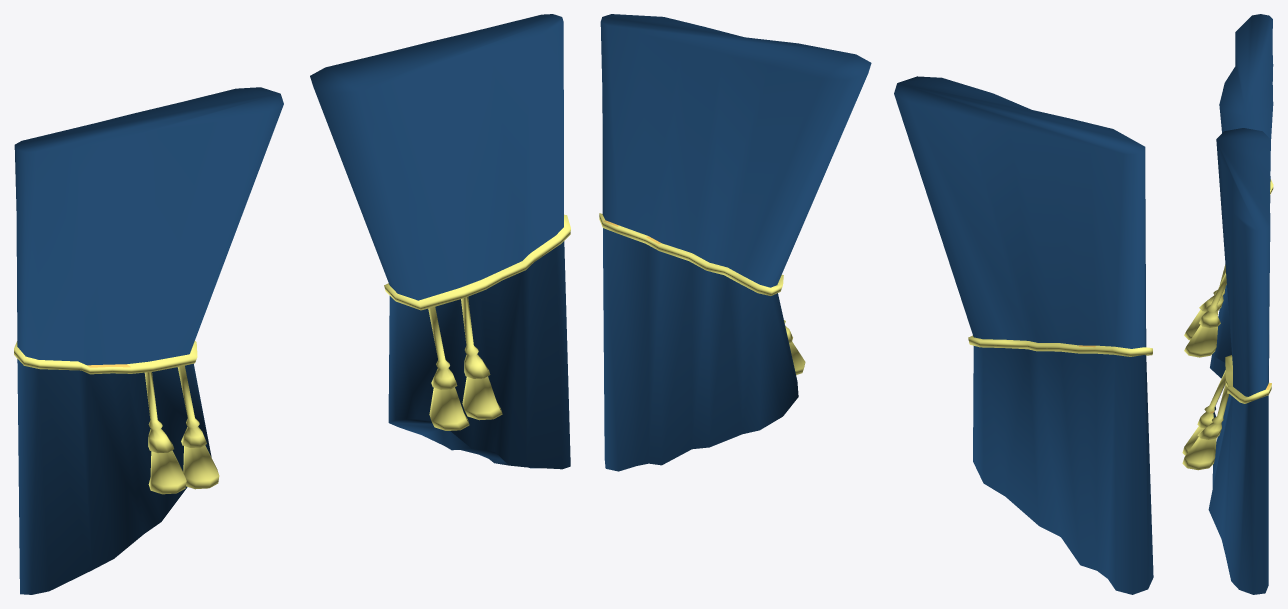
Rendered from Cortinas.fbx.
The picture shows the model from 3 angles, left to right: view 1: azimuth 30°, elevation 25°; view 2: azimuth 150°, elevation 25°; view 3: azimuth 270°, elevation 25°; orthographic projection. The views are drawn at different scales.
Visible parts, largest first — view 1: Cylinder.005; view 2: Cylinder.005; view 3: Cylinder.005.
Boxes of the visible parts, bbox=[...] form: Cylinder.005: bbox=[14, 14, 570, 594]; Cylinder.005: bbox=[599, 14, 1153, 594]; Cylinder.005: bbox=[1182, 14, 1273, 594].
Size of the model in its own units: 3.86 by 2.99 by 0.6744.
